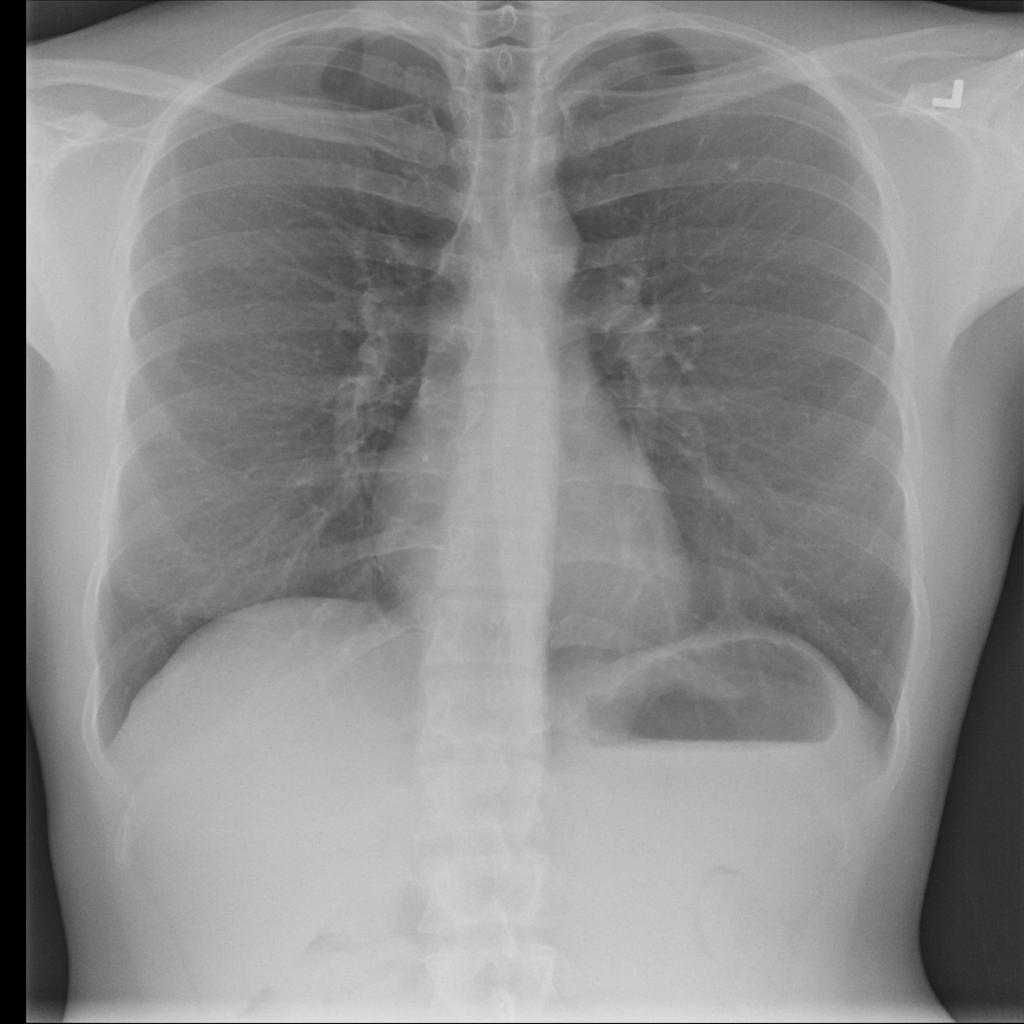nodule: (718, 155, 752, 180)
